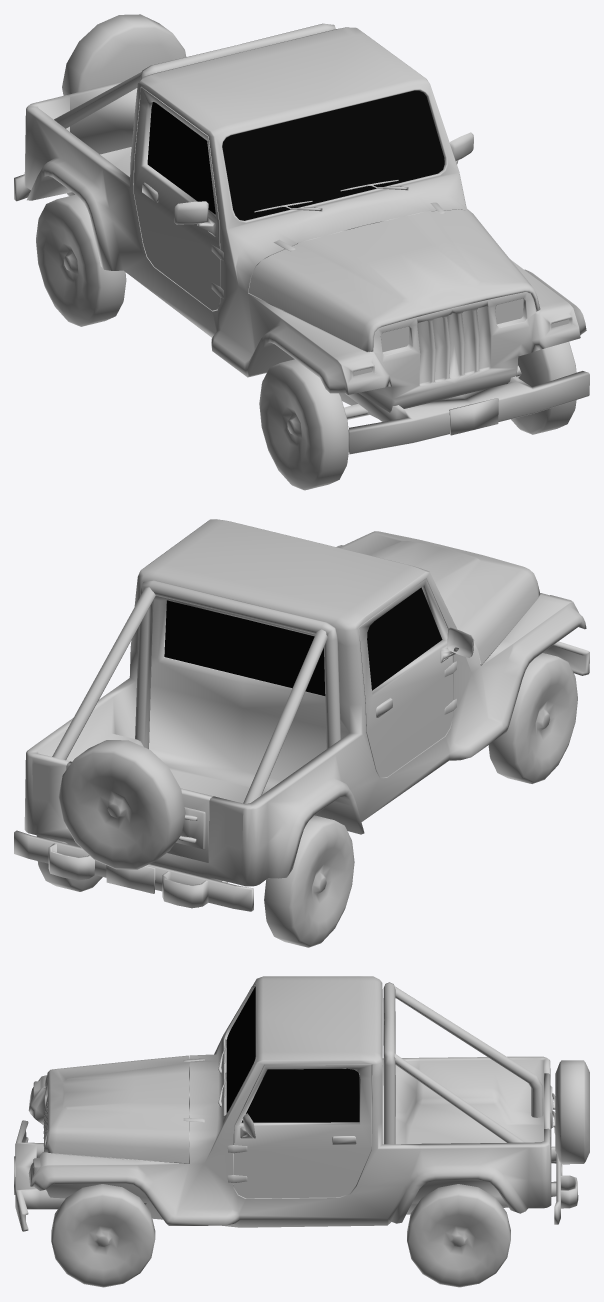
The model's file is jeep.fbx.
3 views of the same model, one above another, from view 1: azimuth 30°, elevation 25°; view 2: azimuth 150°, elevation 25°; view 3: azimuth 270°, elevation 25° (orthographic). The views are drawn at different scales.
Parts seen in each view (by area): view 1: Jeep; view 2: Jeep; view 3: Jeep.
Part boxes in pixels (bbox=[...]): Jeep: bbox=[14, 14, 589, 490]; Jeep: bbox=[14, 519, 589, 947]; Jeep: bbox=[14, 976, 589, 1287].
Bounding box in the file's own units: 4.51 × 4.04 × 9.48.
